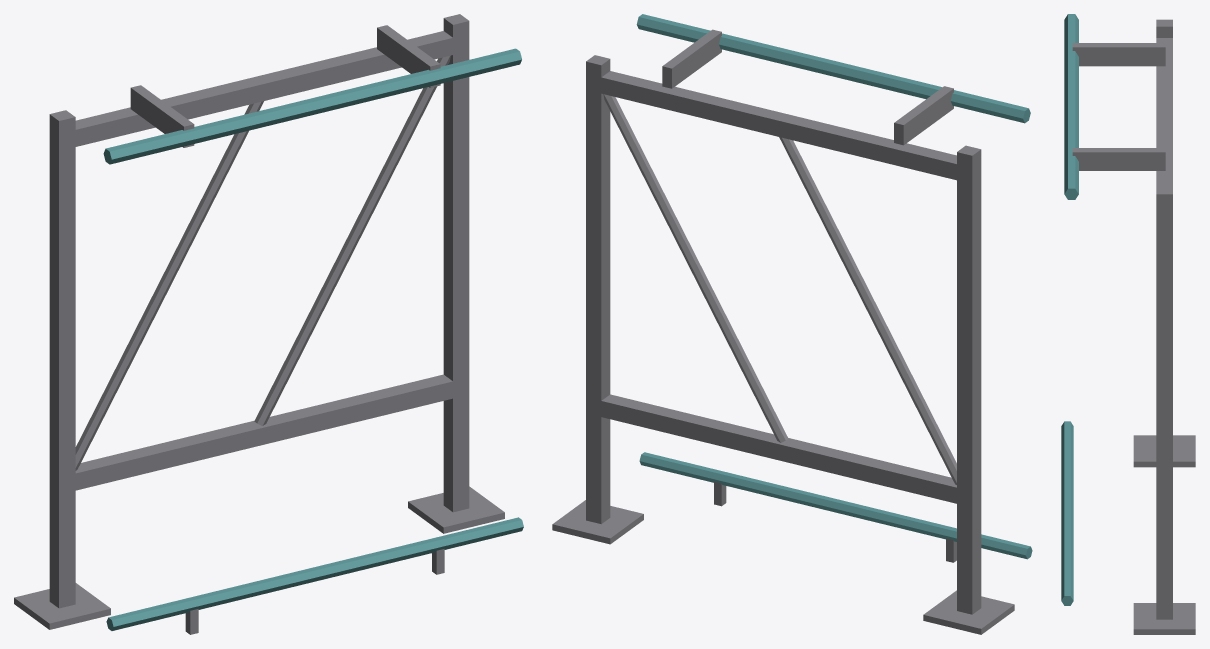
The model's file is HJ_Neon_Tramo.fbx.
3 views of the same model, side by side, from view 1: azimuth 30°, elevation 25°; view 2: azimuth 150°, elevation 25°; view 3: azimuth 270°, elevation 25° (orthographic). The views are drawn at different scales.
Parts seen in each view (by area): view 1: HJ_Neon_Tramo; view 2: HJ_Neon_Tramo; view 3: HJ_Neon_Tramo.
Boxes of the visible parts, x1,y1,x2,y2 form: HJ_Neon_Tramo: (14, 14, 523, 634); HJ_Neon_Tramo: (552, 14, 1032, 634); HJ_Neon_Tramo: (1061, 14, 1195, 634).
Bounding box in the file's own units: 2.22 × 2.35 × 0.65.
